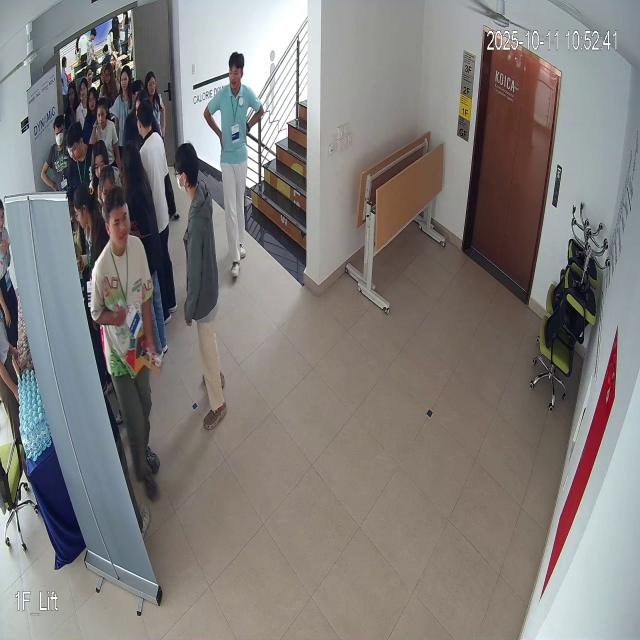face: (103, 179, 134, 262)
